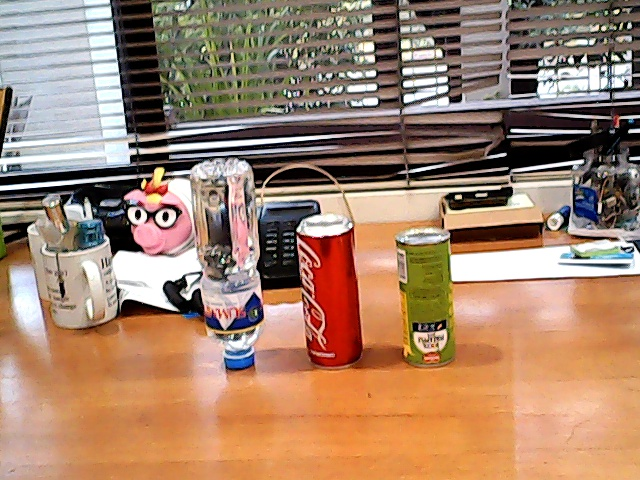Cola: (281, 199, 379, 379)
Pine Juice: (383, 215, 470, 381)
Summit Water: (177, 149, 279, 377)
